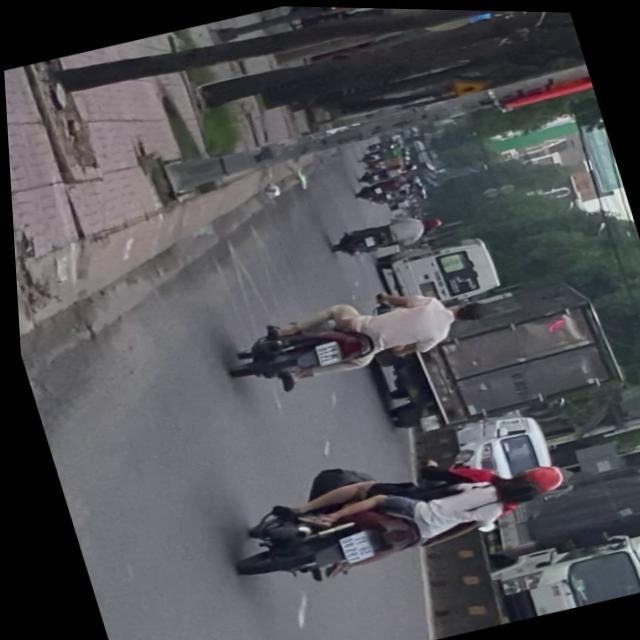helmet: (505, 457, 562, 502)
licenseplate: (206, 421, 580, 607), (211, 267, 496, 407)
motorcyclist: (477, 468, 540, 511), (445, 297, 486, 325)
nohelmet: (330, 528, 369, 564), (310, 340, 337, 365)
